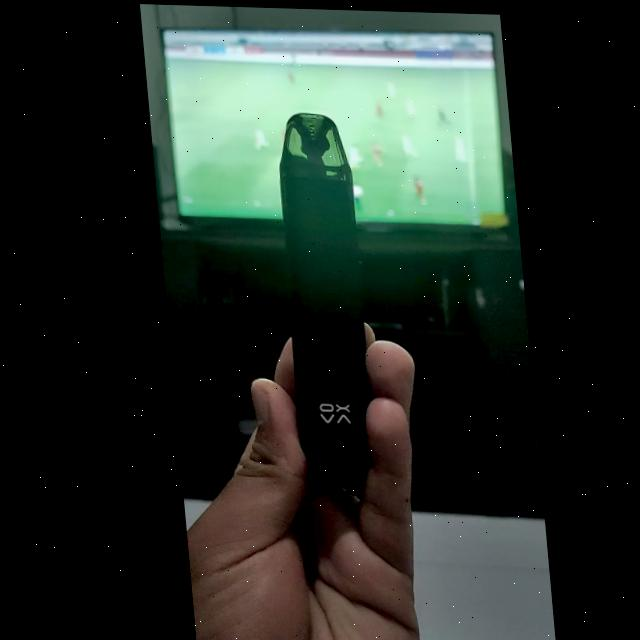vape: (268, 108, 368, 478)
